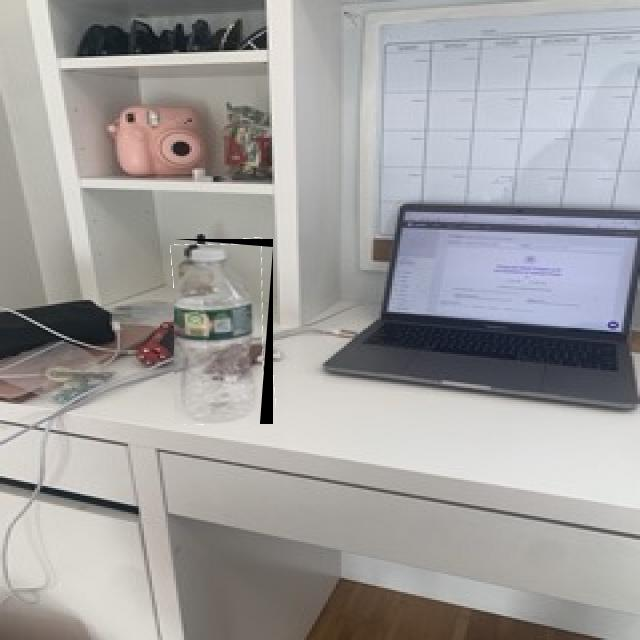water_bottle: (174, 239, 273, 424)
